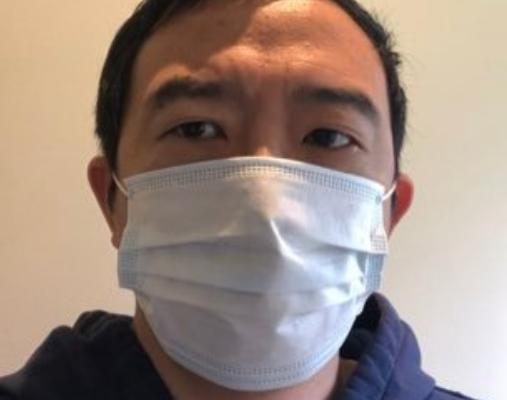mask: (142, 15, 389, 391)
